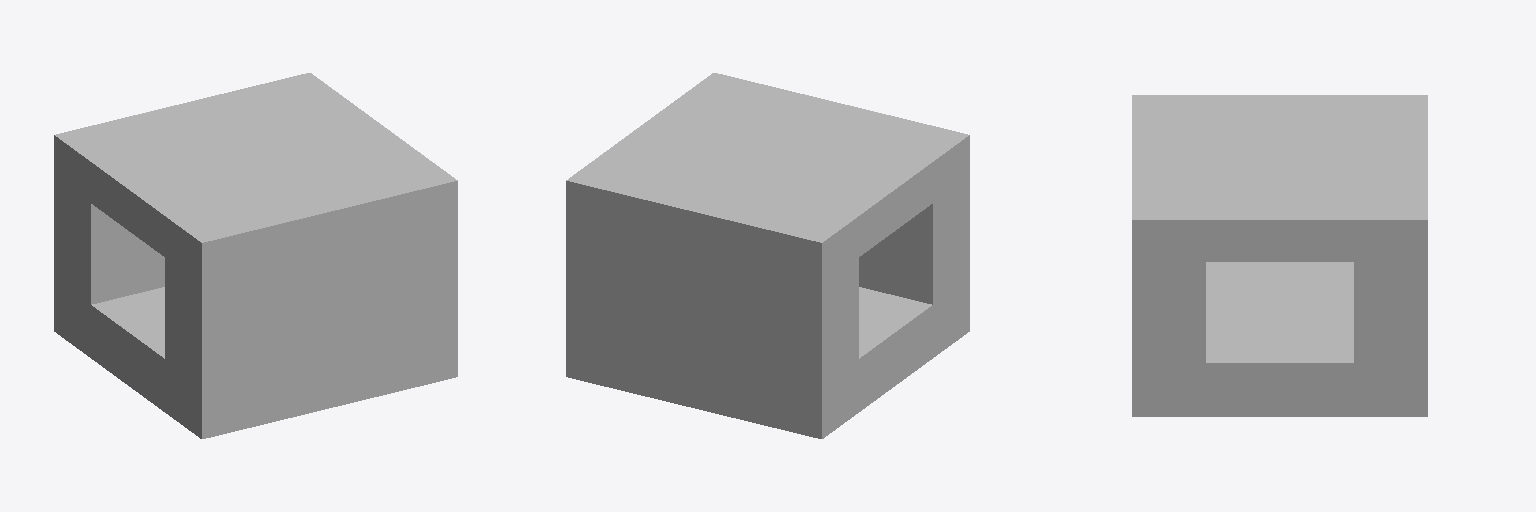
File: tile242.obj
The picture shows the model from 3 angles: view 1: azimuth 30°, elevation 25°; view 2: azimuth 150°, elevation 25°; view 3: azimuth 270°, elevation 25°; orthographic projection.
Parts seen in each view (by area): view 1: tile242; view 2: tile242; view 3: tile242.
Part boxes in pixels (left/top/right/bottom): tile242: left=54, top=73, right=457, bottom=438; tile242: left=566, top=73, right=969, bottom=438; tile242: left=1132, top=95, right=1427, bottom=416.
Bounding box in the file's own units: 1 × 0.7333 × 1.